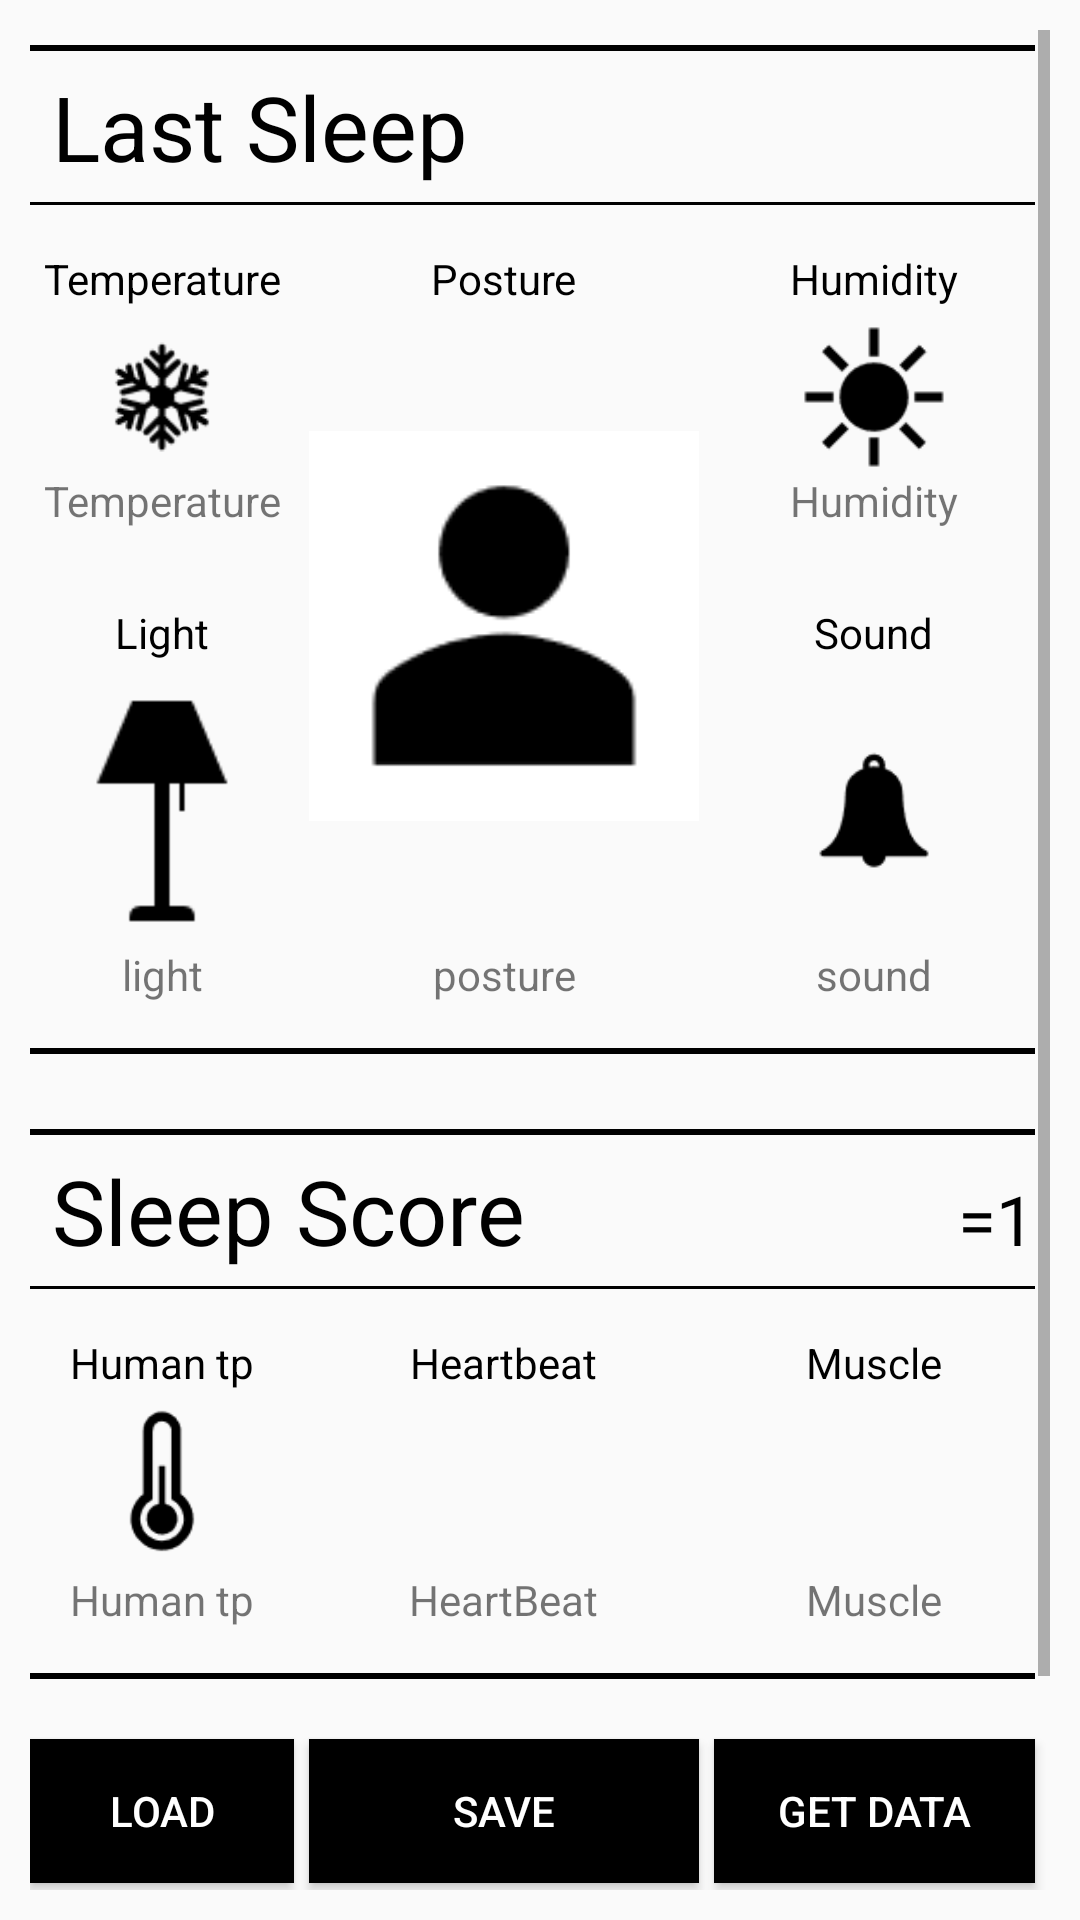

Named icons in this screenshot (1080 × 1920) and their bounding boxes, region(x1, y1, x2, y2):
cold: region(115, 343, 209, 452)
noisy: region(819, 753, 929, 868)
warm: region(804, 327, 944, 467)
